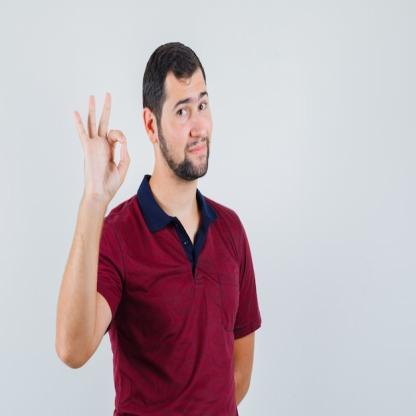ok: (68, 88, 132, 210)
